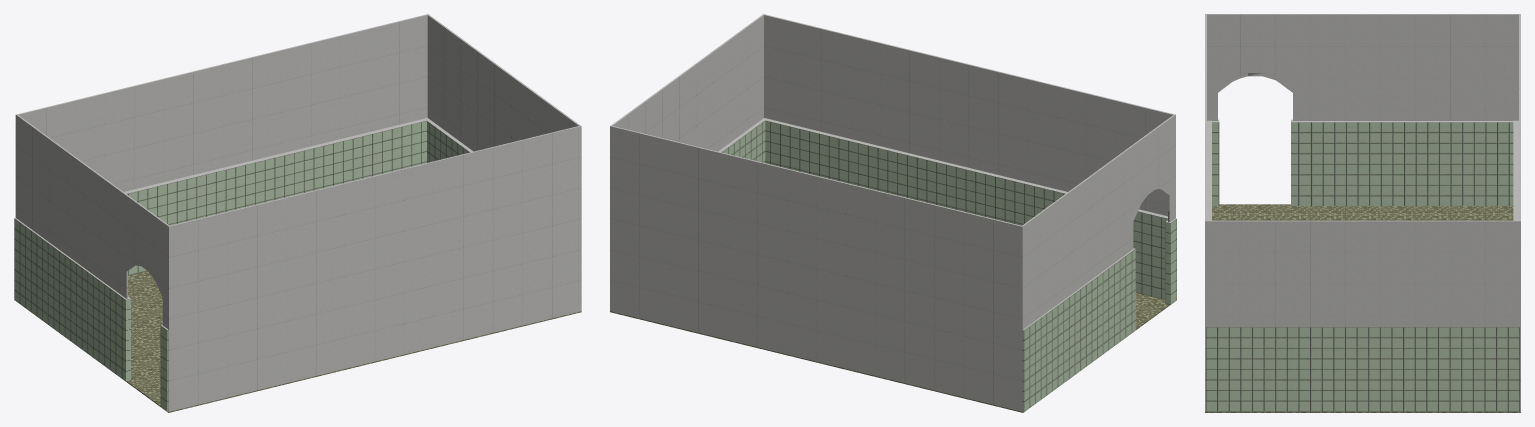
Rendered from kitchen walls.FBX.
3 renders of one model, left to right at view 1: azimuth 30°, elevation 25°; view 2: azimuth 150°, elevation 25°; view 3: azimuth 270°, elevation 25°, orthographic. The views are drawn at different scales.
Visible parts, largest first — view 1: Group005, Group001, Group004, Group003; view 2: Group005, Group002, Group004, Group003; view 3: Group005, Group003, Group004, Group001, Group002.
Part boxes in pixels (left/top/right/bottom): Group005: left=15, top=14, right=581, bottom=412; Group001: left=124, top=118, right=428, bottom=275; Group004: left=14, top=218, right=168, bottom=411; Group003: left=425, top=118, right=473, bottom=162; Group005: left=610, top=14, right=1175, bottom=412; Group002: left=765, top=118, right=1167, bottom=299; Group004: left=1022, top=218, right=1176, bottom=411; Group003: left=718, top=118, right=766, bottom=162; Group005: left=1205, top=14, right=1520, bottom=412; Group003: left=1206, top=327, right=1519, bottom=411; Group004: left=1212, top=119, right=1513, bottom=206; Group001: left=1513, top=120, right=1518, bottom=220; Group002: left=1207, top=120, right=1211, bottom=220.
Size of the model in its own units: 716 by 307 by 459.
Materials: 1 (1 with a texture image).
